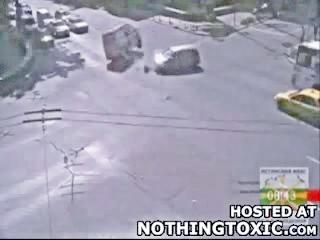Car: (274, 88, 319, 130), (150, 45, 200, 70), (103, 28, 141, 57), (46, 19, 70, 38), (34, 27, 53, 45), (36, 8, 53, 28), (23, 17, 38, 36), (71, 17, 88, 32), (64, 51, 82, 64), (18, 1, 32, 15), (55, 7, 69, 19), (7, 2, 16, 19)
Minor Accident: (105, 27, 201, 71)
